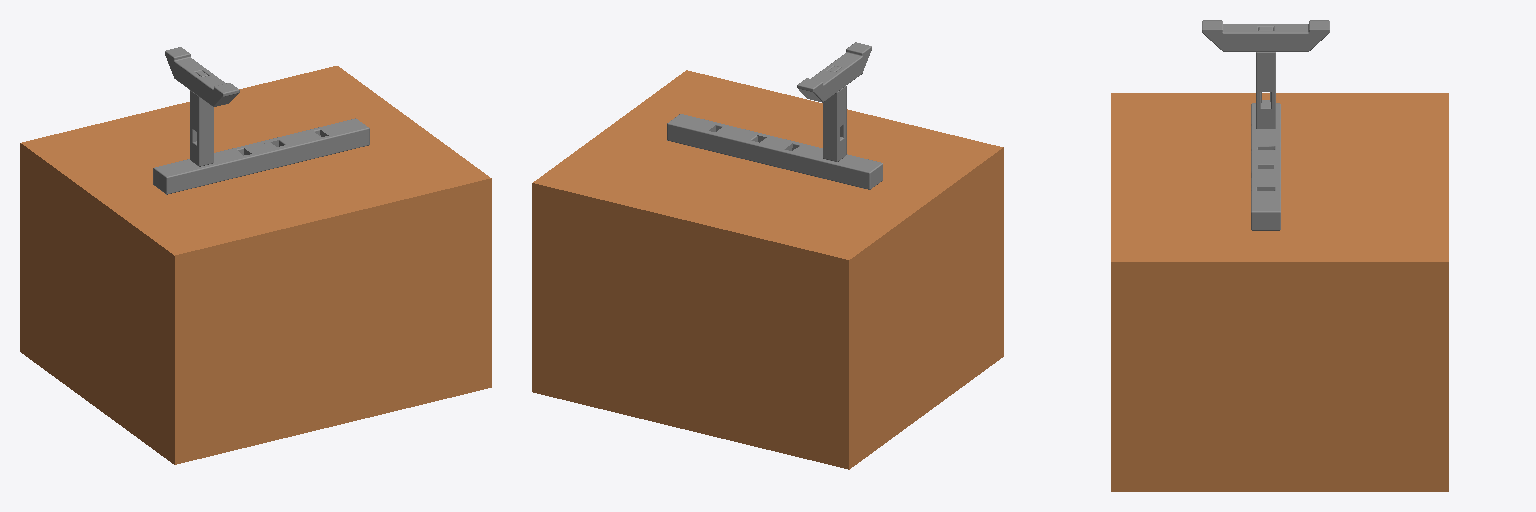
The robot description file, URDF, robot "table_beam_2x_3_scene_0092":
<?xml version="1.0"?>
<robot name="table_beam_2x_3_scene_0092">
  <link name="box">
    <visual>
      <material name="wood"><color rgba="0.82 0.56 0.35 1.0"/></material>
      <origin xyz="0 0 0"/>
      <geometry><box size="0.475 0.4 0.3"/></geometry>
    </visual>
    <collision>
      <origin xyz="0 0 0"/>
      <geometry><box size="0.475 0.4 0.3"/></geometry>
    </collision>
    <inertial>
      <mass value="500"/>
      <friction value="1.0"/>
      <inertia ixx="1000.0" ixy="0.0" ixz="0.0" iyy="1000.0" iyz="0.0" izz="1000.0"/>
    </inertial>
  </link>
  <link name="part_6_hull_0">
    <visual>
      <origin xyz="0 0 0" rpy="0 0 0"/>
      <geometry><mesh filename="../../6/coacd/decomp_0.obj" scale="1 1 1"/></geometry>
      <material name="placed_0"><color rgba="0.6 0.6 0.6 1.0"/></material>
    </visual>
    <collision>
      <origin xyz="0 0 0" rpy="0 0 0"/>
      <geometry><mesh filename="../../6/coacd/decomp_0.obj" scale="1 1 1"/></geometry>
    </collision>
  </link>
  <joint name="part_6_hull_0_joint" type="fixed">
    <parent link="box"/>
    <child link="part_6_hull_0"/>
    <origin xyz="-0.001370 -0.016534 0.162666" rpy="0.000000 0.000000 0.000000"/>
  </joint>
  <link name="part_6_hull_1">
    <visual>
      <origin xyz="0 0 0" rpy="0 0 0"/>
      <geometry><mesh filename="../../6/coacd/decomp_1.obj" scale="1 1 1"/></geometry>
      <material name="placed_1"><color rgba="0.6 0.6 0.6 1.0"/></material>
    </visual>
    <collision>
      <origin xyz="0 0 0" rpy="0 0 0"/>
      <geometry><mesh filename="../../6/coacd/decomp_1.obj" scale="1 1 1"/></geometry>
    </collision>
  </link>
  <joint name="part_6_hull_1_joint" type="fixed">
    <parent link="box"/>
    <child link="part_6_hull_1"/>
    <origin xyz="-0.001370 -0.016534 0.162666" rpy="0.000000 0.000000 0.000000"/>
  </joint>
  <link name="part_6_hull_2">
    <visual>
      <origin xyz="0 0 0" rpy="0 0 0"/>
      <geometry><mesh filename="../../6/coacd/decomp_10.obj" scale="1 1 1"/></geometry>
      <material name="placed_2"><color rgba="0.6 0.6 0.6 1.0"/></material>
    </visual>
    <collision>
      <origin xyz="0 0 0" rpy="0 0 0"/>
      <geometry><mesh filename="../../6/coacd/decomp_10.obj" scale="1 1 1"/></geometry>
    </collision>
  </link>
  <joint name="part_6_hull_2_joint" type="fixed">
    <parent link="box"/>
    <child link="part_6_hull_2"/>
    <origin xyz="-0.001370 -0.016534 0.162666" rpy="0.000000 0.000000 0.000000"/>
  </joint>
  <link name="part_6_hull_3">
    <visual>
      <origin xyz="0 0 0" rpy="0 0 0"/>
      <geometry><mesh filename="../../6/coacd/decomp_11.obj" scale="1 1 1"/></geometry>
      <material name="placed_3"><color rgba="0.6 0.6 0.6 1.0"/></material>
    </visual>
    <collision>
      <origin xyz="0 0 0" rpy="0 0 0"/>
      <geometry><mesh filename="../../6/coacd/decomp_11.obj" scale="1 1 1"/></geometry>
    </collision>
  </link>
  <joint name="part_6_hull_3_joint" type="fixed">
    <parent link="box"/>
    <child link="part_6_hull_3"/>
    <origin xyz="-0.001370 -0.016534 0.162666" rpy="0.000000 0.000000 0.000000"/>
  </joint>
  <link name="part_6_hull_4">
    <visual>
      <origin xyz="0 0 0" rpy="0 0 0"/>
      <geometry><mesh filename="../../6/coacd/decomp_12.obj" scale="1 1 1"/></geometry>
      <material name="placed_4"><color rgba="0.6 0.6 0.6 1.0"/></material>
    </visual>
    <collision>
      <origin xyz="0 0 0" rpy="0 0 0"/>
      <geometry><mesh filename="../../6/coacd/decomp_12.obj" scale="1 1 1"/></geometry>
    </collision>
  </link>
  <joint name="part_6_hull_4_joint" type="fixed">
    <parent link="box"/>
    <child link="part_6_hull_4"/>
    <origin xyz="-0.001370 -0.016534 0.162666" rpy="0.000000 0.000000 0.000000"/>
  </joint>
  <link name="part_6_hull_5">
    <visual>
      <origin xyz="0 0 0" rpy="0 0 0"/>
      <geometry><mesh filename="../../6/coacd/decomp_13.obj" scale="1 1 1"/></geometry>
      <material name="placed_5"><color rgba="0.6 0.6 0.6 1.0"/></material>
    </visual>
    <collision>
      <origin xyz="0 0 0" rpy="0 0 0"/>
      <geometry><mesh filename="../../6/coacd/decomp_13.obj" scale="1 1 1"/></geometry>
    </collision>
  </link>
  <joint name="part_6_hull_5_joint" type="fixed">
    <parent link="box"/>
    <child link="part_6_hull_5"/>
    <origin xyz="-0.001370 -0.016534 0.162666" rpy="0.000000 0.000000 0.000000"/>
  </joint>
  <link name="part_6_hull_6">
    <visual>
      <origin xyz="0 0 0" rpy="0 0 0"/>
      <geometry><mesh filename="../../6/coacd/decomp_2.obj" scale="1 1 1"/></geometry>
      <material name="placed_6"><color rgba="0.6 0.6 0.6 1.0"/></material>
    </visual>
    <collision>
      <origin xyz="0 0 0" rpy="0 0 0"/>
      <geometry><mesh filename="../../6/coacd/decomp_2.obj" scale="1 1 1"/></geometry>
    </collision>
  </link>
  <joint name="part_6_hull_6_joint" type="fixed">
    <parent link="box"/>
    <child link="part_6_hull_6"/>
    <origin xyz="-0.001370 -0.016534 0.162666" rpy="0.000000 0.000000 0.000000"/>
  </joint>
  <link name="part_6_hull_7">
    <visual>
      <origin xyz="0 0 0" rpy="0 0 0"/>
      <geometry><mesh filename="../../6/coacd/decomp_3.obj" scale="1 1 1"/></geometry>
      <material name="placed_7"><color rgba="0.6 0.6 0.6 1.0"/></material>
    </visual>
    <collision>
      <origin xyz="0 0 0" rpy="0 0 0"/>
      <geometry><mesh filename="../../6/coacd/decomp_3.obj" scale="1 1 1"/></geometry>
    </collision>
  </link>
  <joint name="part_6_hull_7_joint" type="fixed">
    <parent link="box"/>
    <child link="part_6_hull_7"/>
    <origin xyz="-0.001370 -0.016534 0.162666" rpy="0.000000 0.000000 0.000000"/>
  </joint>
  <link name="part_6_hull_8">
    <visual>
      <origin xyz="0 0 0" rpy="0 0 0"/>
      <geometry><mesh filename="../../6/coacd/decomp_4.obj" scale="1 1 1"/></geometry>
      <material name="placed_8"><color rgba="0.6 0.6 0.6 1.0"/></material>
    </visual>
    <collision>
      <origin xyz="0 0 0" rpy="0 0 0"/>
      <geometry><mesh filename="../../6/coacd/decomp_4.obj" scale="1 1 1"/></geometry>
    </collision>
  </link>
  <joint name="part_6_hull_8_joint" type="fixed">
    <parent link="box"/>
    <child link="part_6_hull_8"/>
    <origin xyz="-0.001370 -0.016534 0.162666" rpy="0.000000 0.000000 0.000000"/>
  </joint>
  <link name="part_6_hull_9">
    <visual>
      <origin xyz="0 0 0" rpy="0 0 0"/>
      <geometry><mesh filename="../../6/coacd/decomp_5.obj" scale="1 1 1"/></geometry>
      <material name="placed_9"><color rgba="0.6 0.6 0.6 1.0"/></material>
    </visual>
    <collision>
      <origin xyz="0 0 0" rpy="0 0 0"/>
      <geometry><mesh filename="../../6/coacd/decomp_5.obj" scale="1 1 1"/></geometry>
    </collision>
  </link>
  <joint name="part_6_hull_9_joint" type="fixed">
    <parent link="box"/>
    <child link="part_6_hull_9"/>
    <origin xyz="-0.001370 -0.016534 0.162666" rpy="0.000000 0.000000 0.000000"/>
  </joint>
  <link name="part_6_hull_10">
    <visual>
      <origin xyz="0 0 0" rpy="0 0 0"/>
      <geometry><mesh filename="../../6/coacd/decomp_6.obj" scale="1 1 1"/></geometry>
      <material name="placed_10"><color rgba="0.6 0.6 0.6 1.0"/></material>
    </visual>
    <collision>
      <origin xyz="0 0 0" rpy="0 0 0"/>
      <geometry><mesh filename="../../6/coacd/decomp_6.obj" scale="1 1 1"/></geometry>
    </collision>
  </link>
  <joint name="part_6_hull_10_joint" type="fixed">
    <parent link="box"/>
    <child link="part_6_hull_10"/>
    <origin xyz="-0.001370 -0.016534 0.162666" rpy="0.000000 0.000000 0.000000"/>
  </joint>
  <link name="part_6_hull_11">
    <visual>
      <origin xyz="0 0 0" rpy="0 0 0"/>
      <geometry><mesh filename="../../6/coacd/decomp_7.obj" scale="1 1 1"/></geometry>
      <material name="placed_11"><color rgba="0.6 0.6 0.6 1.0"/></material>
    </visual>
    <collision>
      <origin xyz="0 0 0" rpy="0 0 0"/>
      <geometry><mesh filename="../../6/coacd/decomp_7.obj" scale="1 1 1"/></geometry>
    </collision>
  </link>
  <joint name="part_6_hull_11_joint" type="fixed">
    <parent link="box"/>
    <child link="part_6_hull_11"/>
    <origin xyz="-0.001370 -0.016534 0.162666" rpy="0.000000 0.000000 0.000000"/>
  </joint>
  <link name="part_6_hull_12">
    <visual>
      <origin xyz="0 0 0" rpy="0 0 0"/>
      <geometry><mesh filename="../../6/coacd/decomp_8.obj" scale="1 1 1"/></geometry>
      <material name="placed_12"><color rgba="0.6 0.6 0.6 1.0"/></material>
    </visual>
    <collision>
      <origin xyz="0 0 0" rpy="0 0 0"/>
      <geometry><mesh filename="../../6/coacd/decomp_8.obj" scale="1 1 1"/></geometry>
    </collision>
  </link>
  <joint name="part_6_hull_12_joint" type="fixed">
    <parent link="box"/>
    <child link="part_6_hull_12"/>
    <origin xyz="-0.001370 -0.016534 0.162666" rpy="0.000000 0.000000 0.000000"/>
  </joint>
  <link name="part_6_hull_13">
    <visual>
      <origin xyz="0 0 0" rpy="0 0 0"/>
      <geometry><mesh filename="../../6/coacd/decomp_9.obj" scale="1 1 1"/></geometry>
      <material name="placed_13"><color rgba="0.6 0.6 0.6 1.0"/></material>
    </visual>
    <collision>
      <origin xyz="0 0 0" rpy="0 0 0"/>
      <geometry><mesh filename="../../6/coacd/decomp_9.obj" scale="1 1 1"/></geometry>
    </collision>
  </link>
  <joint name="part_6_hull_13_joint" type="fixed">
    <parent link="box"/>
    <child link="part_6_hull_13"/>
    <origin xyz="-0.001370 -0.016534 0.162666" rpy="0.000000 0.000000 0.000000"/>
  </joint>
  <link name="part_2_canonical">
    <visual>
      <origin xyz="0 0 0" rpy="0 0 0"/>
      <geometry><mesh filename="../../2/2_canonical.obj" scale="1 1 1"/></geometry>
      <material name="placed_14"><color rgba="0.6 0.6 0.6 1.0"/></material>
    </visual>
    <collision>
      <origin xyz="0 0 0" rpy="0 0 0"/>
      <geometry><mesh filename="../../2/2_canonical.obj" scale="1 1 1"/></geometry>
    </collision>
  </link>
  <joint name="part_2_canonical_joint" type="fixed">
    <parent link="box"/>
    <child link="part_2_canonical"/>
    <origin xyz="-0.090297 -0.016534 0.225384" rpy="0.000000 -1.570796 0.000000"/>
  </joint>
  <link name="part_0_canonical">
    <visual>
      <origin xyz="0 0 0" rpy="0 0 0"/>
      <geometry><mesh filename="../../0/0_canonical.obj" scale="1 1 1"/></geometry>
      <material name="placed_15"><color rgba="0.6 0.6 0.6 1.0"/></material>
    </visual>
    <collision>
      <origin xyz="0 0 0" rpy="0 0 0"/>
      <geometry><mesh filename="../../0/0_canonical.obj" scale="1 1 1"/></geometry>
    </collision>
  </link>
  <joint name="part_0_canonical_joint" type="fixed">
    <parent link="box"/>
    <child link="part_0_canonical"/>
    <origin xyz="-0.090270 -0.016534 0.292243" rpy="1.570796 0.000000 -1.570796"/>
  </joint>
</robot>

--- Facts derived from the render (not from the file) ---
Views: 3 orthographic renders of the robot side by side, from view 1: azimuth 30°, elevation 25°; view 2: azimuth 150°, elevation 25°; view 3: azimuth 270°, elevation 25°.
Model table_beam_2x_3_scene_0092 with 17 links and 16 joints (16 fixed), rooted at box, posed every joint at zero.
Links seen in each view (by area): view 1: box, part_0_canonical, part_2_canonical, part_6_hull_1, part_6_hull_0, part_6_hull_9, part_6_hull_5, part_6_hull_3; view 2: box, part_0_canonical, part_2_canonical, part_6_hull_1, part_6_hull_0, part_6_hull_2, part_6_hull_5, part_6_hull_12; view 3: box, part_0_canonical, part_2_canonical, part_6_hull_0.
Boxes of the visible links, <box> form: box: <box>20,66,491,464</box>; part_0_canonical: <box>165,47,239,106</box>; part_2_canonical: <box>190,71,213,166</box>; part_6_hull_1: <box>153,159,204,194</box>; part_6_hull_0: <box>318,118,369,154</box>; part_6_hull_9: <box>203,154,254,184</box>; part_6_hull_5: <box>285,129,323,162</box>; part_6_hull_3: <box>256,143,296,171</box>; box: <box>532,70,1003,469</box>; part_0_canonical: <box>797,42,871,102</box>; part_2_canonical: <box>823,66,846,161</box>; part_6_hull_1: <box>831,154,882,189</box>; part_6_hull_0: <box>667,114,717,149</box>; part_6_hull_2: <box>789,146,825,178</box>; part_6_hull_5: <box>713,125,751,157</box>; part_6_hull_12: <box>739,139,779,167</box>; box: <box>1111,93,1448,491</box>; part_0_canonical: <box>1202,20,1329,51</box>; part_2_canonical: <box>1256,27,1275,128</box>; part_6_hull_0: <box>1251,191,1280,230</box>.
Bounding box of the posed robot: 0.475 × 0.4 × 0.4575 m (x, y, z).
Meshes: 16 distinct files referenced, 16 mesh visuals loaded (16 OBJ).
